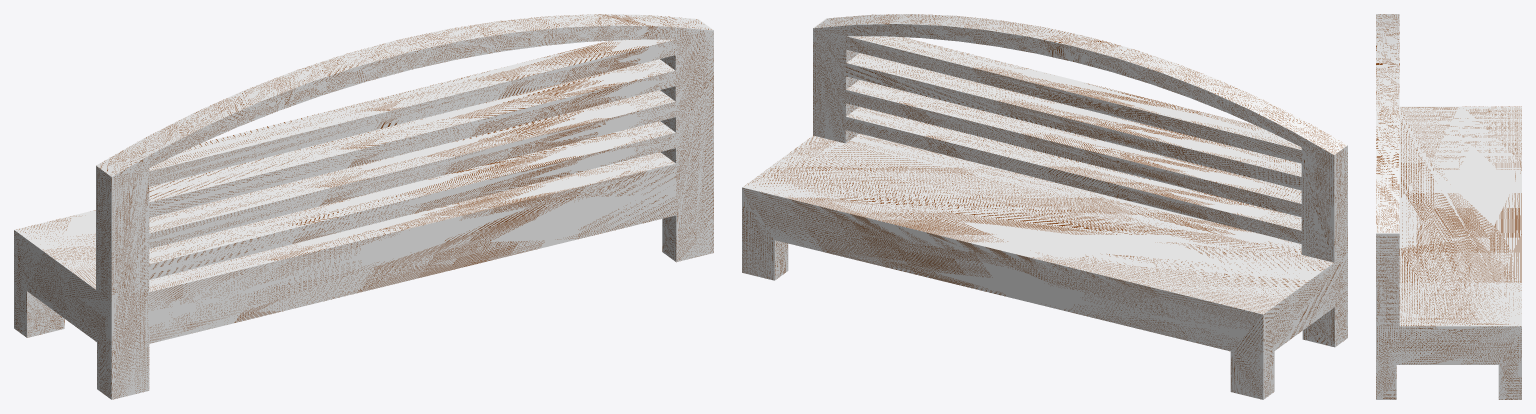
The picture shows the model from 3 angles, left to right: view 1: azimuth 30°, elevation 25°; view 2: azimuth 150°, elevation 25°; view 3: azimuth 270°, elevation 25°; orthographic projection. The views are drawn at different scales.
Visible parts, largest first — view 1: mesh1_mesh1-geometry; view 2: mesh1_mesh1-geometry; view 3: mesh1_mesh1-geometry.
Boxes of the visible parts, x1,y1,x2,y2 form: mesh1_mesh1-geometry: (14, 14, 713, 399); mesh1_mesh1-geometry: (742, 14, 1347, 399); mesh1_mesh1-geometry: (1376, 14, 1521, 399).
Size of the model in its own units: 0.8875 by 0.3875 by 0.2493.
